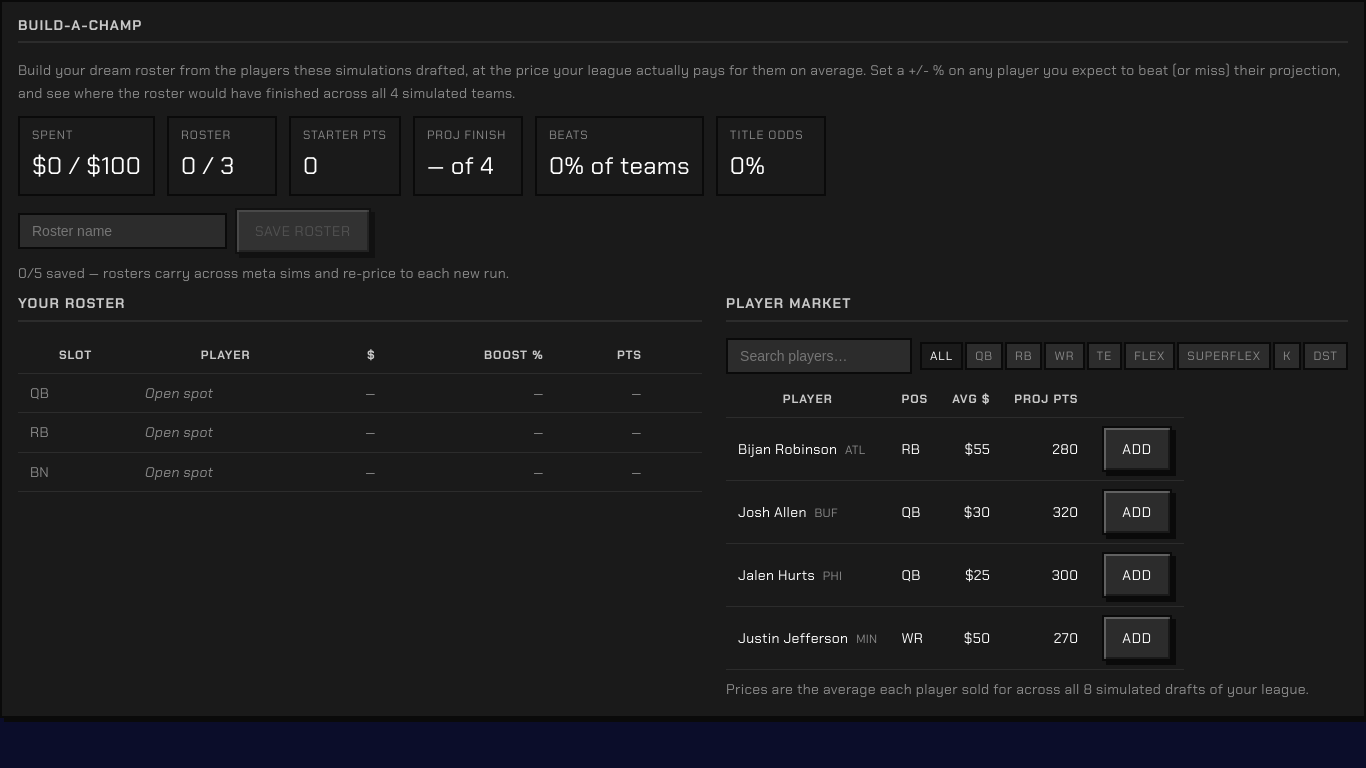
Test: BuildAChampTab › flags an over-budget roster
Click the button "Add" in the row of "Bijan Robinson" at (1137, 449), box [1102,426,1172,472]
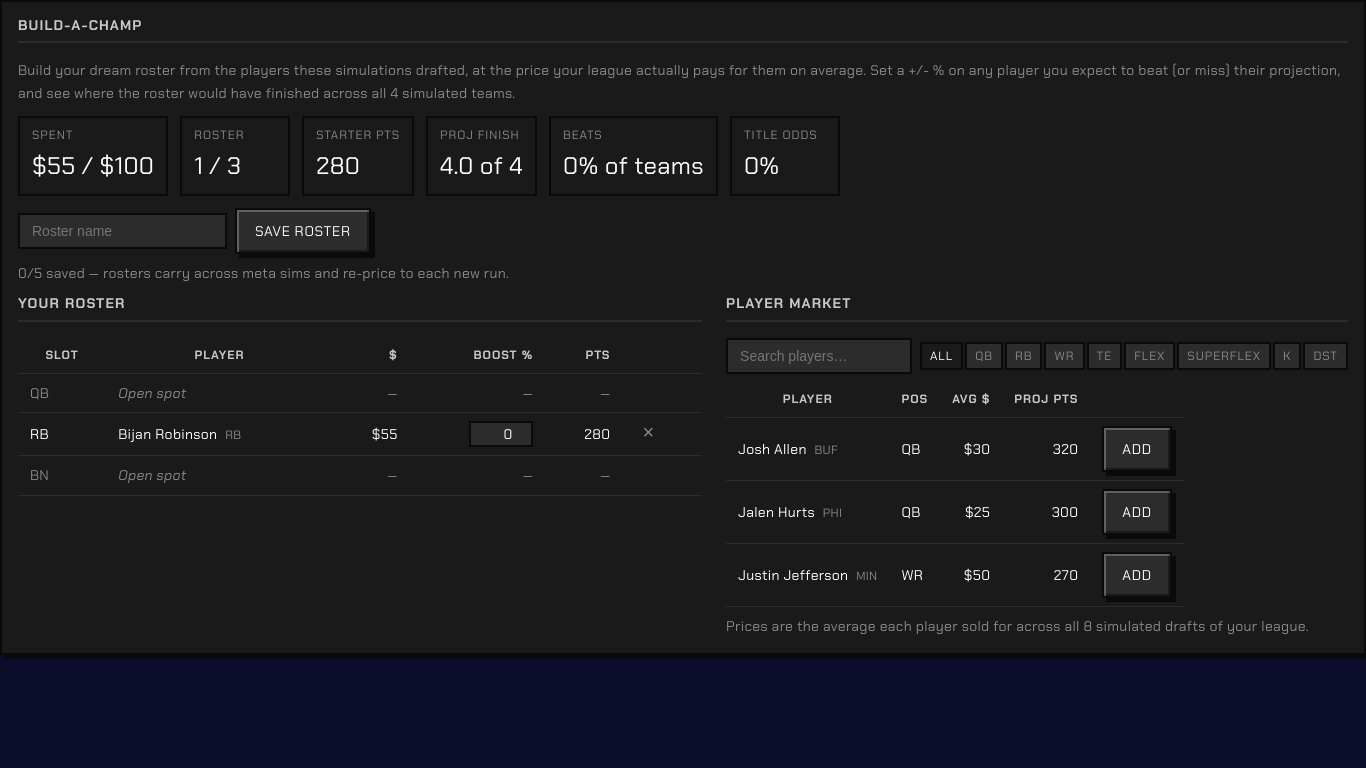
Click the button "Add" in the row of "Josh Allen" at (1137, 449), box [1102,426,1172,472]
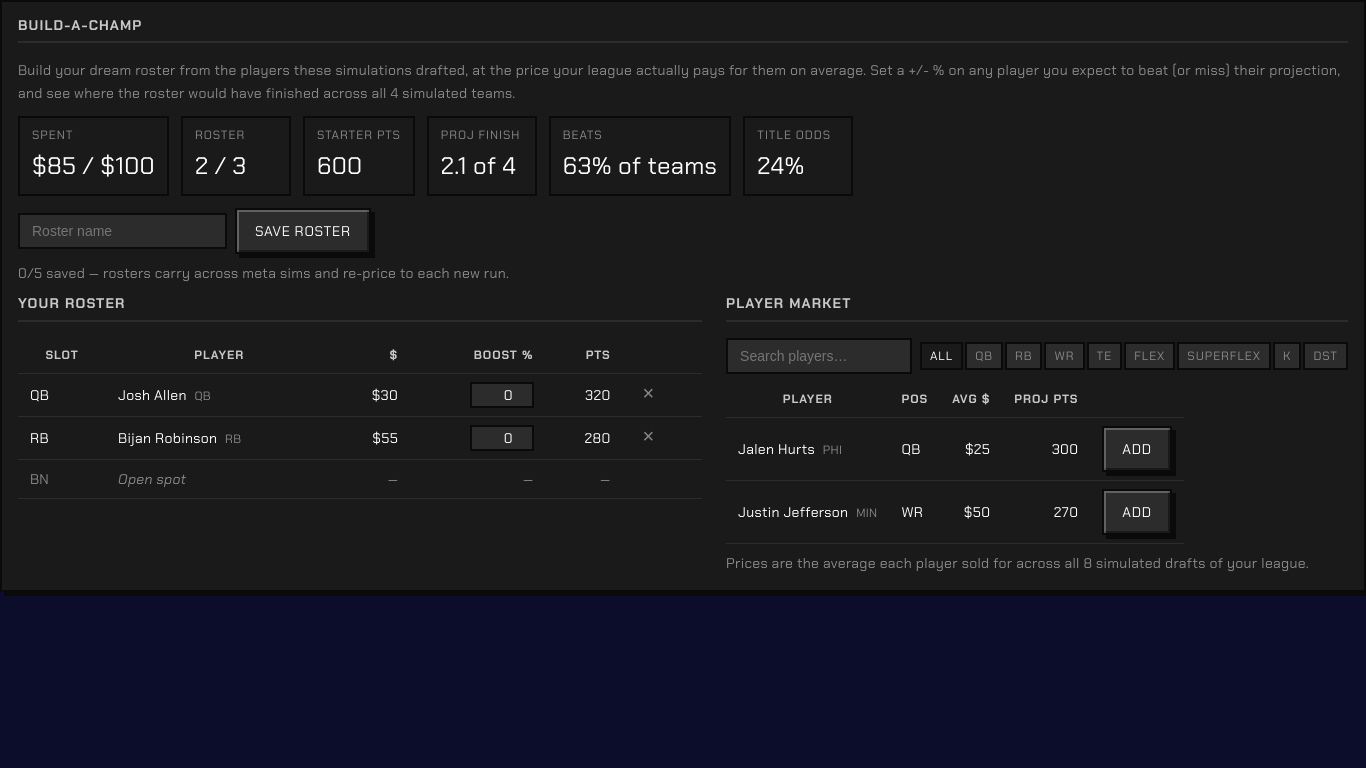
Click the button with aria-label "Add Justin Jefferson" at (1137, 512), box [1102,489,1172,535]
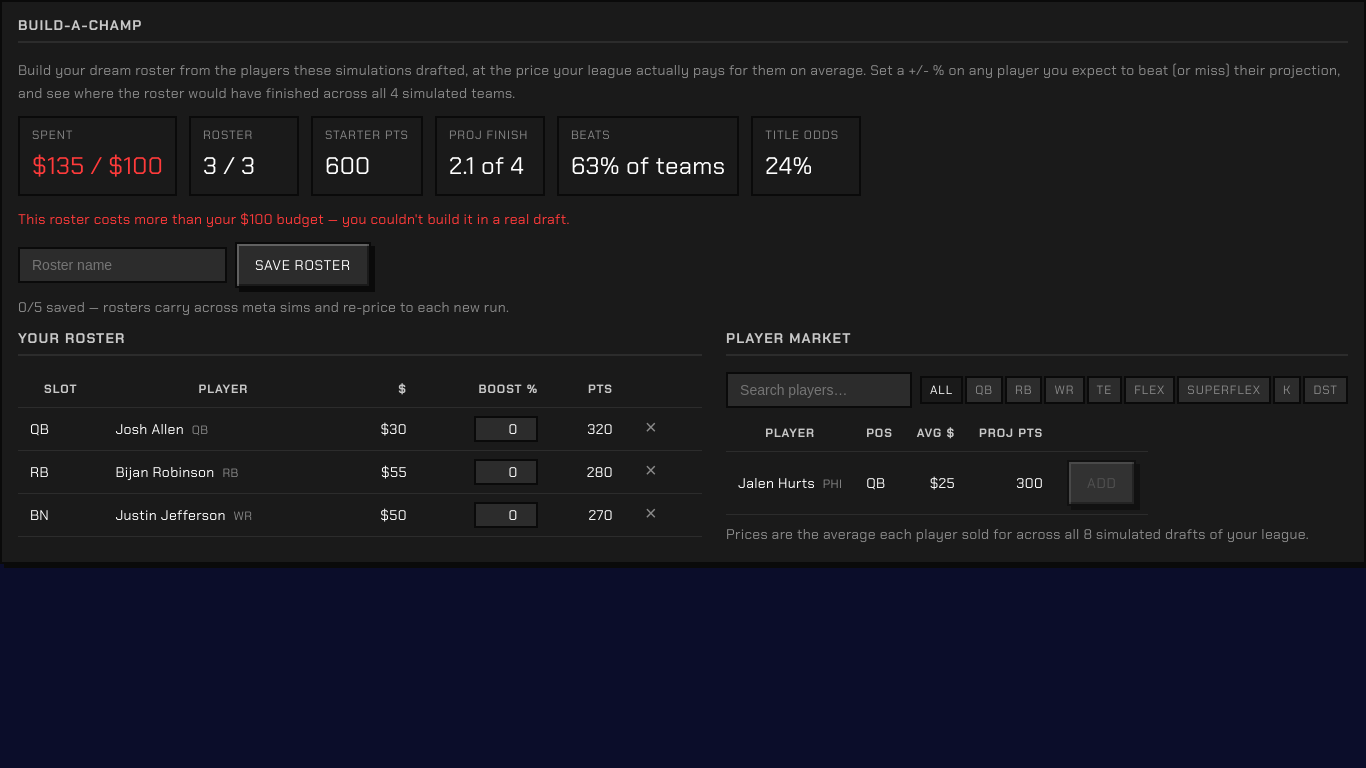
Now the text "costs more than your $100 budget" is shown, box [18,210,570,228]
